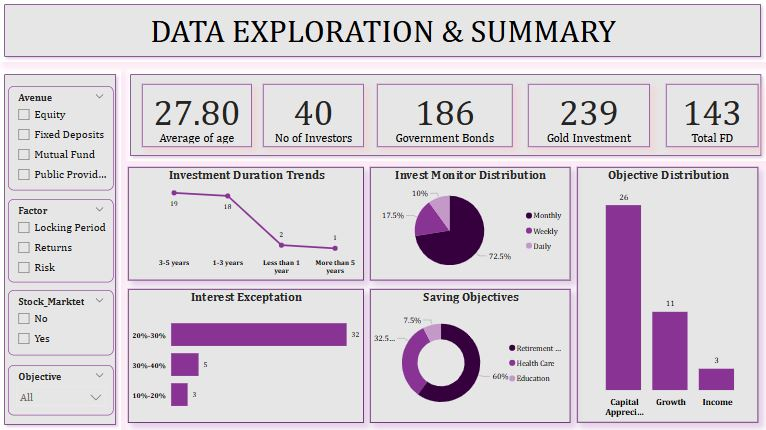

This screenshot's page, from the dashboard's own definition file:
{"tool":"powerbi","page":{"name":"Task 1","canvas":[1280,720],"ordinal":0},"visuals":[{"type":"shape","box":[0,116.6,204.5,603.4],"z":0},{"type":"shape","box":[210.2,116.6,1069.9,154.1],"z":1000},{"type":"shape","box":[0,0,1280.2,105.1],"z":2000},{"type":"card","fields":{"Values":["Avg(Data_set 2.age)"]},"box":[239,141.1,182.9,105.1],"z":3000},{"type":"card","title":"Investors","fields":{"Values":["CountNonNull(Data_set 2.Invest_Monitor)"]},"box":[439.2,141.1,168.5,105.1],"z":4000},{"type":"slicer","fields":{"Values":["Data_set 2.Avenue"]},"box":[14.3,144.3,175.7,174.3],"z":5000},{"type":"card","title":"Investors","fields":{"Values":["Sum(Data_set 2.Government_Bonds)"]},"box":[630.7,141.1,226.1,105.1],"z":6000},{"type":"slicer","fields":{"Values":["Data_set 2.Factor"]},"box":[14.3,332.9,175.7,138.6],"z":7000},{"type":"slicer","fields":{"Values":["Data_set 2.Stock_Marktet"]},"box":[14.3,485.7,175.7,108.6],"z":8000},{"type":"slicer","fields":{"Values":["Data_set 2.Objective"]},"box":[14.4,610.6,175.7,83.5],"z":9000},{"type":"card","title":"Investors","fields":{"Values":["Sum(Data_set 2.Gold)"]},"box":[881.3,141.1,203,105.1],"z":10000},{"type":"card","title":"Investors","fields":{"Values":["Sum(Data_set 2.Fixed_Deposits)"]},"box":[1111.7,141.1,154.1,105.1],"z":11000},{"type":"lineChart","title":"Investment Duration Trends","fields":{"Category":["Data_set 2.Duration"],"Y":["CountNonNull(Data_set 2.Duration)"]},"box":[214.6,280.8,393.1,188.6],"z":12000},{"type":"columnChart","title":"Objective Distribution","fields":{"Category":["Data_set 2.Objective"],"Y":["CountNonNull(Data_set 2.Objective)"]},"box":[963.4,280.8,302.4,426.2],"z":13000},{"type":"pieChart","title":"Invest Monitor Distribution","fields":{"Category":["Data_set 2.Invest_Monitor"],"Y":["CountNonNull(Data_set 2.Invest_Monitor)"]},"box":[617.8,280.8,334.1,188.6],"z":14000},{"type":"barChart","title":"Interest Exceptation","fields":{"Category":["Data_set 2.Expect"],"Y":["CountNonNull(Data_set 2.Expect)"]},"box":[214.6,483.8,393.1,223.2],"z":15000},{"type":"donutChart","title":"Saving Objectives","fields":{"Category":["Data_set 2.What are your savings objectives?"],"Y":["CountNonNull(Data_set 2.What are your savings objectives?)"]},"box":[617.8,483.8,334.1,223.2],"z":16000}]}

Visuals, with their boxes in screenshot pixels (x1, y1, x2, y2), scaled from the page's 1280x720 canvas onto the 766x430 screenshot:
shape: crop(0, 70, 122, 429)
shape: crop(126, 70, 765, 162)
shape: crop(0, 0, 765, 63)
card - Avg(Data_set 2.age): crop(143, 84, 252, 147)
"Investors" card: crop(263, 84, 364, 147)
slicer - Data_set 2.Avenue: crop(9, 86, 114, 190)
"Investors" card: crop(377, 84, 513, 147)
slicer - Data_set 2.Factor: crop(9, 199, 114, 282)
slicer - Data_set 2.Stock_Marktet: crop(9, 290, 114, 355)
slicer - Data_set 2.Objective: crop(9, 365, 114, 415)
"Investors" card: crop(527, 84, 649, 147)
"Investors" card: crop(665, 84, 758, 147)
"Investment Duration Trends" lineChart: crop(128, 168, 364, 280)
"Objective Distribution" columnChart: crop(577, 168, 758, 422)
"Invest Monitor Distribution" pieChart: crop(370, 168, 570, 280)
"Interest Exceptation" barChart: crop(128, 289, 364, 422)
"Saving Objectives" donutChart: crop(370, 289, 570, 422)
